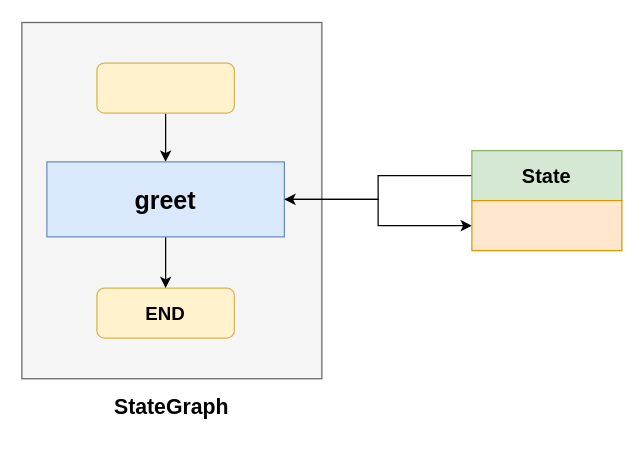
Some shapes in this 644 by 459 pixel diagram are drawn without their labels. The shapes that lost their labels are listed below. From the top down, each one's centre as x and y in pixels, then its label:
[165,87]: START
[546,225]: message: "amit"
